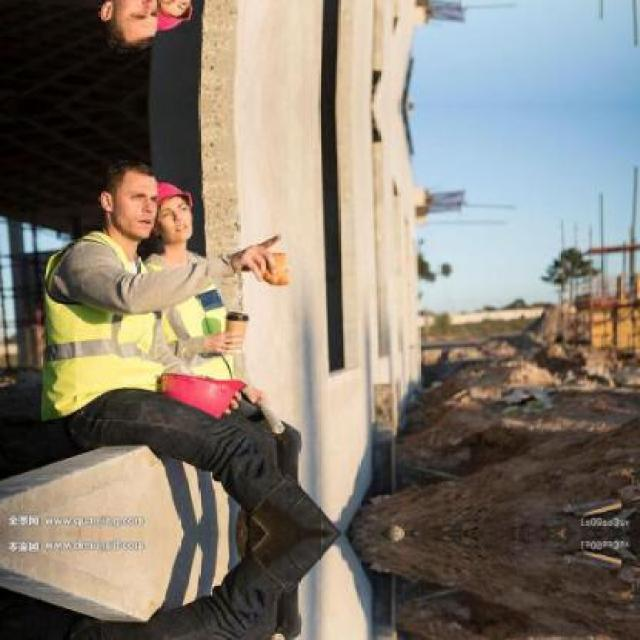helmet: (153, 180, 193, 205)
nohelmet: (102, 148, 158, 249)
